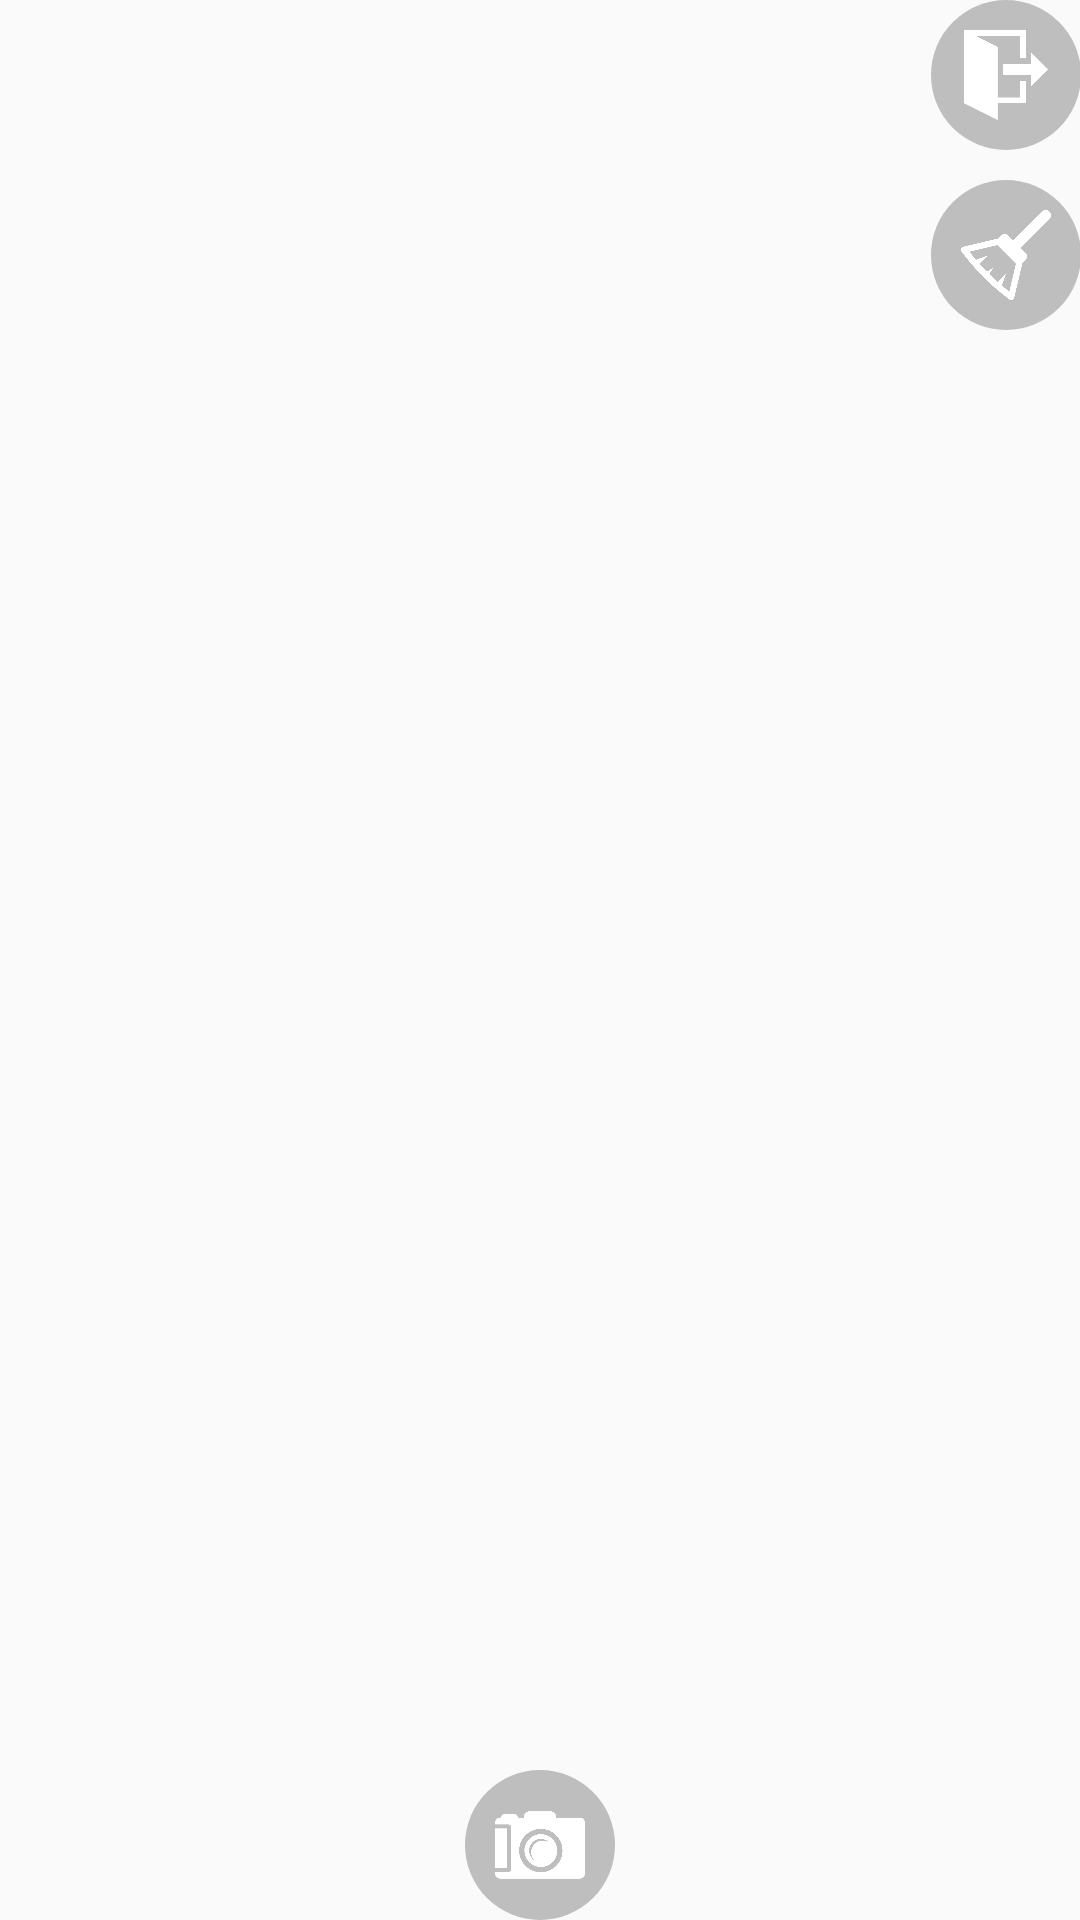

Named icons in this screenshot (1080*1920) and their bounding boxes, (x1, y1, x2, y2):
camara: (465, 1770, 615, 1920)
cerrar: (931, 0, 1080, 150)
Limpiar: (931, 180, 1080, 330)
